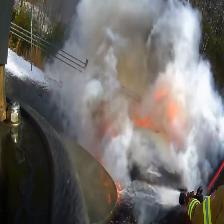smoke: (11, 0, 224, 223)
